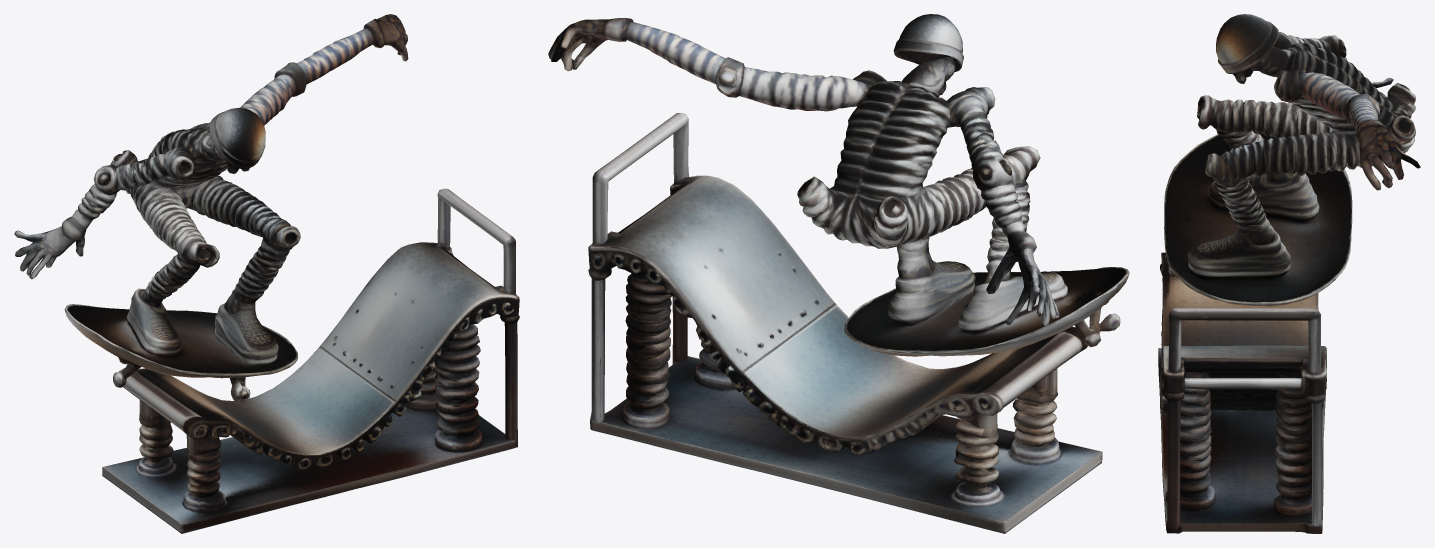
3 views of the same model, side by side, from view 1: azimuth 30°, elevation 25°; view 2: azimuth 150°, elevation 25°; view 3: azimuth 270°, elevation 25° (orthographic). The views are drawn at different scales.
Visible parts, largest first — view 1: world_0; view 2: world_0; view 3: world_0.
Boxes of the visible parts, x1=… form: world_0: x1=14, y1=14, x2=519, y2=533; world_0: x1=548, y1=14, x2=1129, y2=533; world_0: x1=1158, y1=14, x2=1420, y2=533.
Bounding box in the file's own units: 1 × 0.8799 × 0.5326.
Materials: 1 (1 with a texture image).
